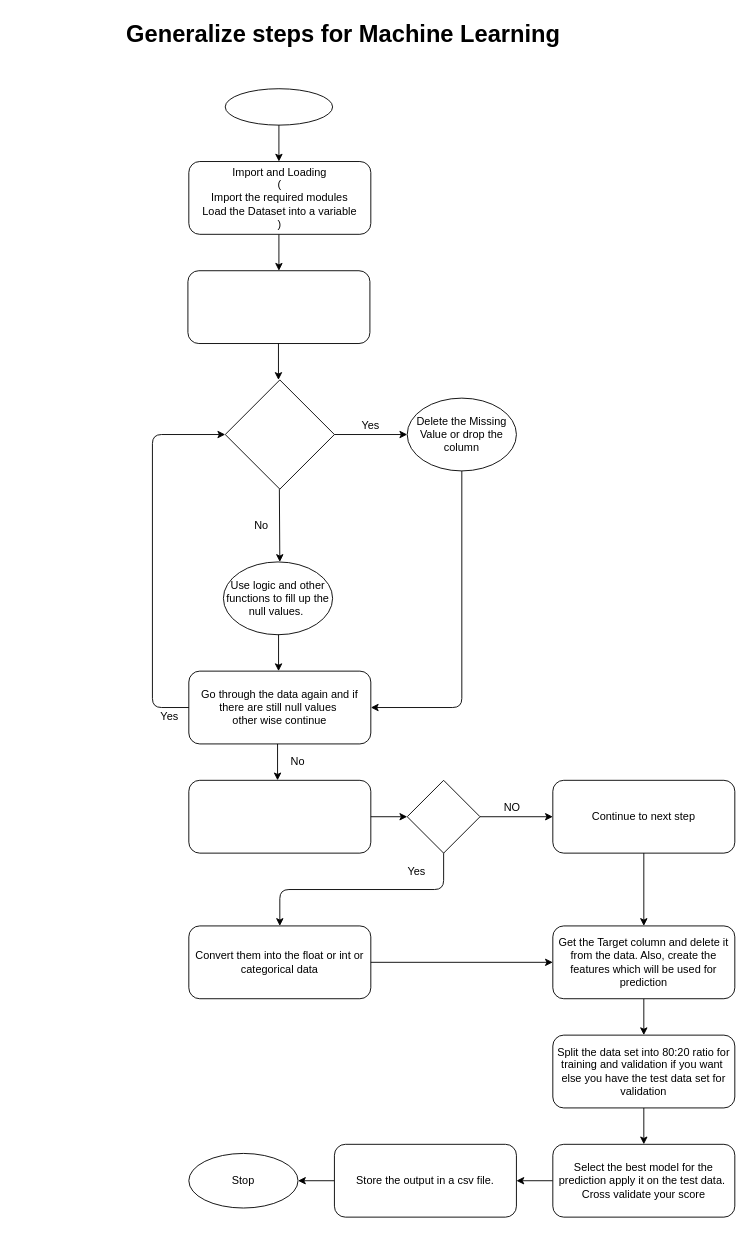
Some shapes in this 751 by 1233 pixel diagram are drawn without their labels. The box of each missing label's shape, as (x1, y1, x2, y2) in pixels:
Get a Insight of the Data Get Summary of the data Get the count of null Values: (187, 270, 370, 344)
Get info of data types.: (188, 779, 371, 853)
If column.isnull() >= 75%: (224, 379, 334, 489)
If dtype == Object: (406, 779, 480, 853)
Start: (224, 88, 333, 125)
